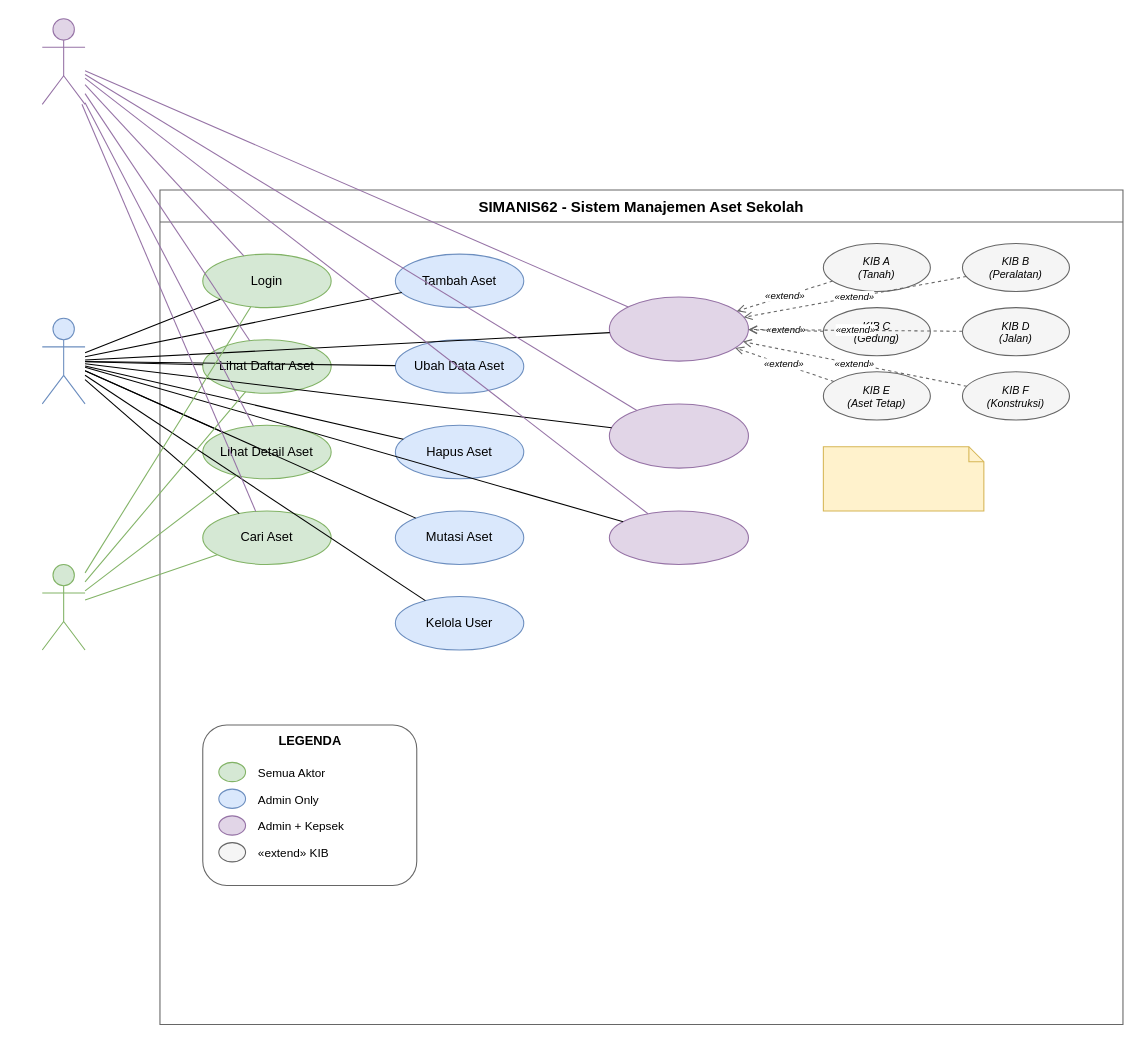
This 1142x1043 diagram has some shape labels left out. Each missing label, with the box of its shape:
Admin Sekolah: (41, 317, 85, 404)
Berdasarkan: Permendagri 19/2016 (update 47/2021, 7/2024): (822, 446, 984, 511)
Ekspor ke Excel: (608, 510, 748, 564)
Generate Laporan KIB: (608, 296, 748, 361)
Generate Laporan KIR: (608, 403, 748, 468)
Guru (Viewer): (41, 563, 85, 650)
Kepala Sekolah: (41, 18, 85, 104)
